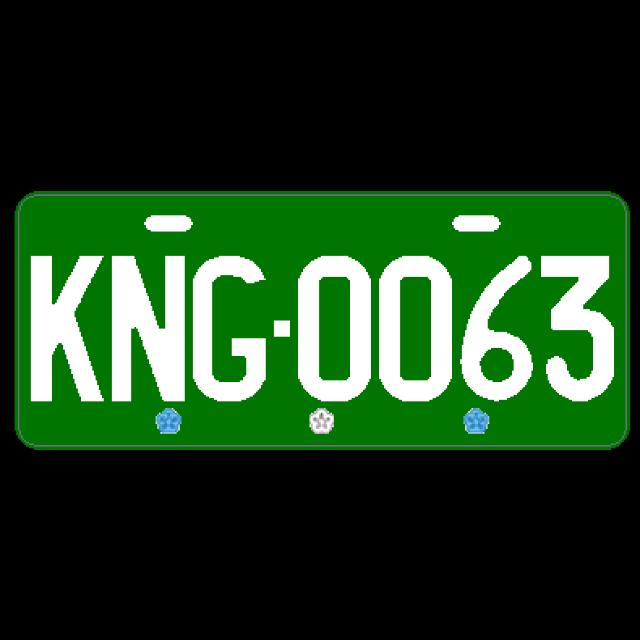plate: (11, 188, 633, 452)
